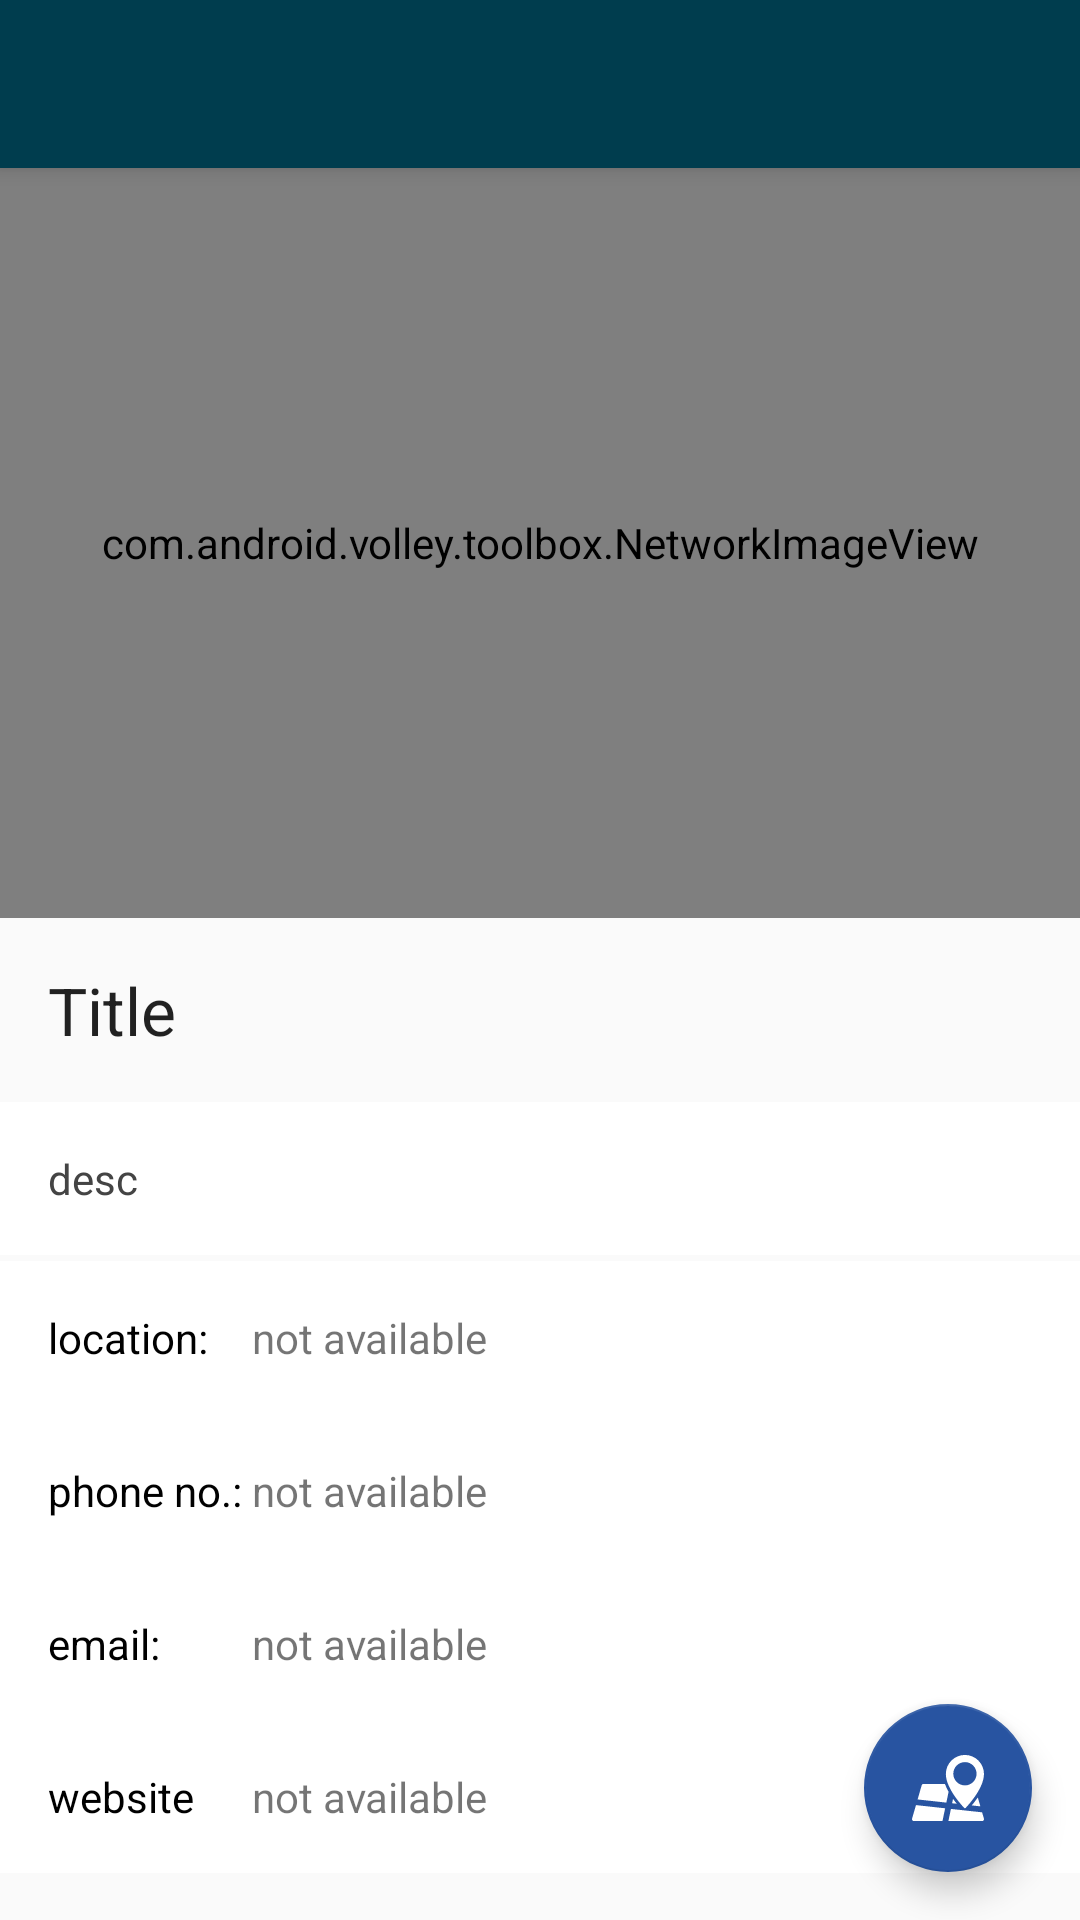

Icons on this 1080×1920 Android screen, each with the point to tap as (x=x, y=y):
map: (x=948, y=1788)
